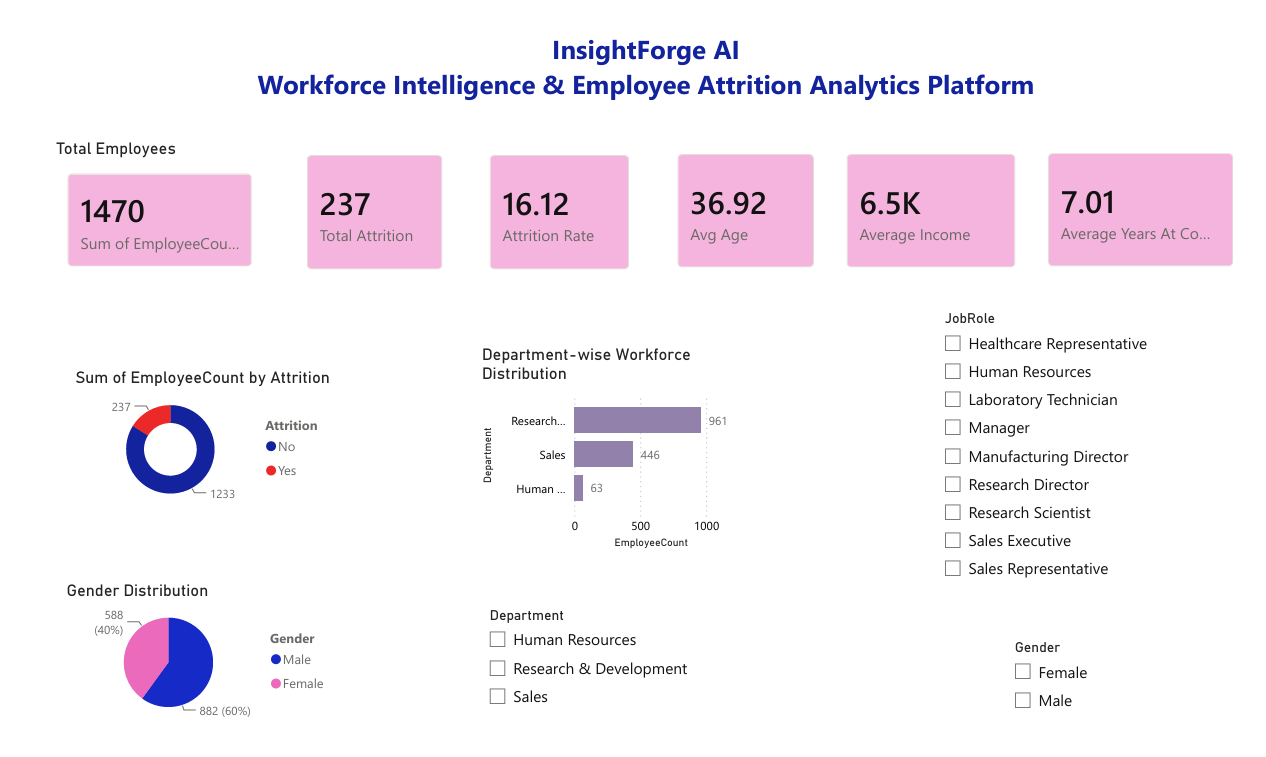

What the dashboard file says about the page in this screenshot:
{"tool":"powerbi","page":{"name":"Executive Overview","canvas":[1280,720],"ordinal":0},"visuals":[{"type":"textbox","box":[154.9,0,971.4,86.5],"z":0},{"type":"cardVisual","title":"Total Employees","fields":{"Data":["Sum(WA_Fn-UseC_-HR-Employee-Attrition.EmployeeCount)"]},"box":[28.8,116.5,223.3,148.9],"z":3000},{"type":"cardVisual","fields":{"Data":["WA_Fn-UseC_-HR-Employee-Attrition.Attrition Rate"]},"box":[463.5,116.5,176.5,150.1],"z":4000},{"type":"cardVisual","fields":{"Data":["WA_Fn-UseC_-HR-Employee-Attrition.Total Attrition"]},"box":[275,116.5,172.9,150.1],"z":5000},{"type":"donutChart","fields":{"Category":["WA_Fn-UseC_-HR-Employee-Attrition.Attrition"],"Y":["Sum(WA_Fn-UseC_-HR-Employee-Attrition.EmployeeCount)"]},"box":[49.2,350.6,276.2,150.1],"z":9000},{"type":"clusteredBarChart","title":"Department-wise Workforce Distribution","fields":{"Category":["WA_Fn-UseC_-HR-Employee-Attrition.Department"],"Y":["Sum(WA_Fn-UseC_-HR-Employee-Attrition.EmployeeCount)"]},"box":[467.1,327.8,276.2,214.9],"z":10000},{"type":"pieChart","title":"Gender Distribution","fields":{"Category":["WA_Fn-UseC_-HR-Employee-Attrition.Gender"],"Y":["Sum(WA_Fn-UseC_-HR-Employee-Attrition.EmployeeCount)"]},"box":[39.6,570.4,285.8,150.1],"z":11000},{"type":"slicer","fields":{"Values":["WA_Fn-UseC_-HR-Employee-Attrition.Department"]},"box":[467.1,593.2,285.8,127.3],"z":12000},{"type":"slicer","fields":{"Values":["WA_Fn-UseC_-HR-Employee-Attrition.Gender"]},"box":[1007.4,625.6,166.9,93.7],"z":13000},{"type":"slicer","fields":{"Values":["WA_Fn-UseC_-HR-Employee-Attrition.JobRole"]},"box":[935.4,288.2,287,295.4],"z":14000},{"type":"cardVisual","fields":{"Data":["WA_Fn-UseC_-HR-Employee-Attrition.Avg Age"]},"box":[655.6,115.3,174.1,150.1],"z":14001},{"type":"cardVisual","fields":{"Data":["WA_Fn-UseC_-HR-Employee-Attrition.Average Years At Company"]},"box":[1037.4,114.1,223.3,150.1],"z":14003},{"type":"cardVisual","fields":{"Data":["WA_Fn-UseC_-HR-Employee-Attrition.Average Income"]},"box":[829.7,115.3,207.7,150.1],"z":14004}]}

Visuals, with their boxes on the page's 1280x720 design canvas (x1, y1, x2, y2). These are canvas units, not pixel positions in the 1266x757 screenshot, which may show the page scaled, cropped or inside an application window:
textbox: 155 0 1126 86
"Total Employees" cardVisual: 29 116 252 265
cardVisual - WA_Fn-UseC_-HR-Employee-Attrition.Attrition Rate: 464 116 640 267
cardVisual - WA_Fn-UseC_-HR-Employee-Attrition.Total Attrition: 275 116 448 267
donutChart - WA_Fn-UseC_-HR-Employee-Attrition.Attrition x Sum(WA_Fn-UseC_-HR-Employee-Attrition.EmployeeCount): 49 351 325 501
"Department-wise Workforce Distribution" clusteredBarChart: 467 328 743 543
"Gender Distribution" pieChart: 40 570 325 720
slicer - WA_Fn-UseC_-HR-Employee-Attrition.Department: 467 593 753 720
slicer - WA_Fn-UseC_-HR-Employee-Attrition.Gender: 1007 626 1174 719
slicer - WA_Fn-UseC_-HR-Employee-Attrition.JobRole: 935 288 1222 584
cardVisual - WA_Fn-UseC_-HR-Employee-Attrition.Avg Age: 656 115 830 265
cardVisual - WA_Fn-UseC_-HR-Employee-Attrition.Average Years At Company: 1037 114 1261 264
cardVisual - WA_Fn-UseC_-HR-Employee-Attrition.Average Income: 830 115 1037 265
